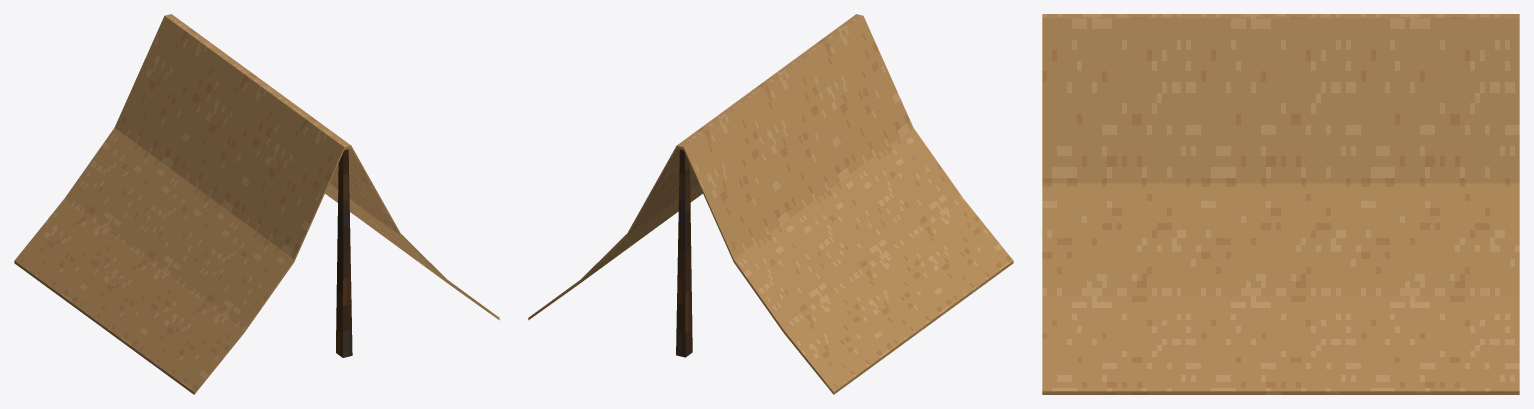
Rendered from blb_tent.fbx.
The picture shows the model from 3 angles, left to right: view 1: azimuth 30°, elevation 25°; view 2: azimuth 150°, elevation 25°; view 3: azimuth 270°, elevation 25°; orthographic projection. The views are drawn at different scales.
Visible parts, largest first — view 1: blb_tent-0; view 2: blb_tent-0; view 3: blb_tent-0.
Boxes of the visible parts, x1,y1,x2,y2 form: blb_tent-0: [14, 14, 499, 394]; blb_tent-0: [528, 14, 1013, 394]; blb_tent-0: [1042, 14, 1519, 394].
Bounding box in the file's own units: 295 × 195 × 301.
